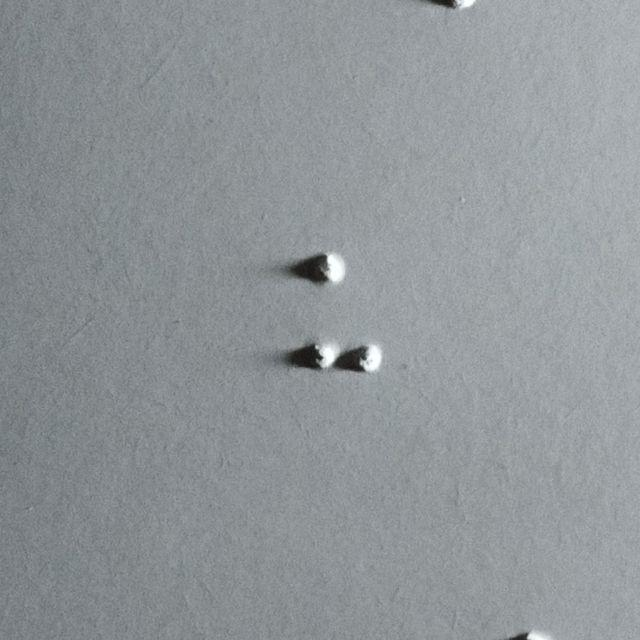u: (303, 253, 384, 376)
